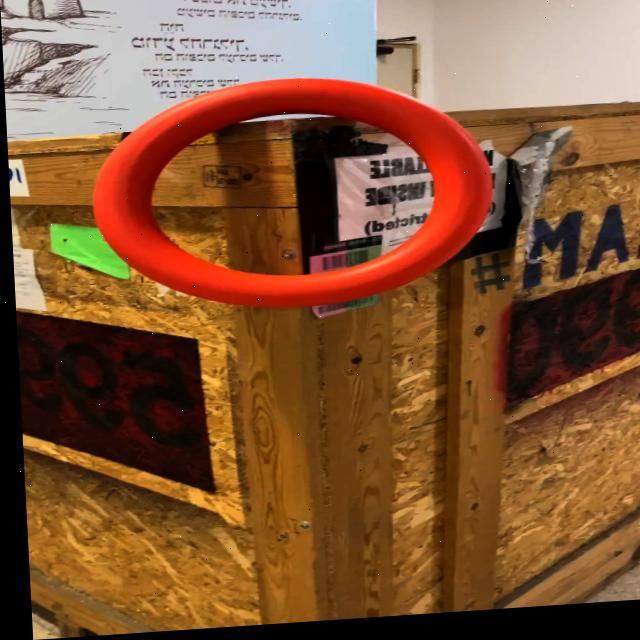note: (83, 70, 498, 324)
